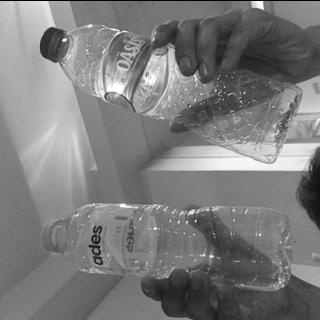plastic_bottles: (40, 24, 300, 163), (39, 204, 291, 290)
